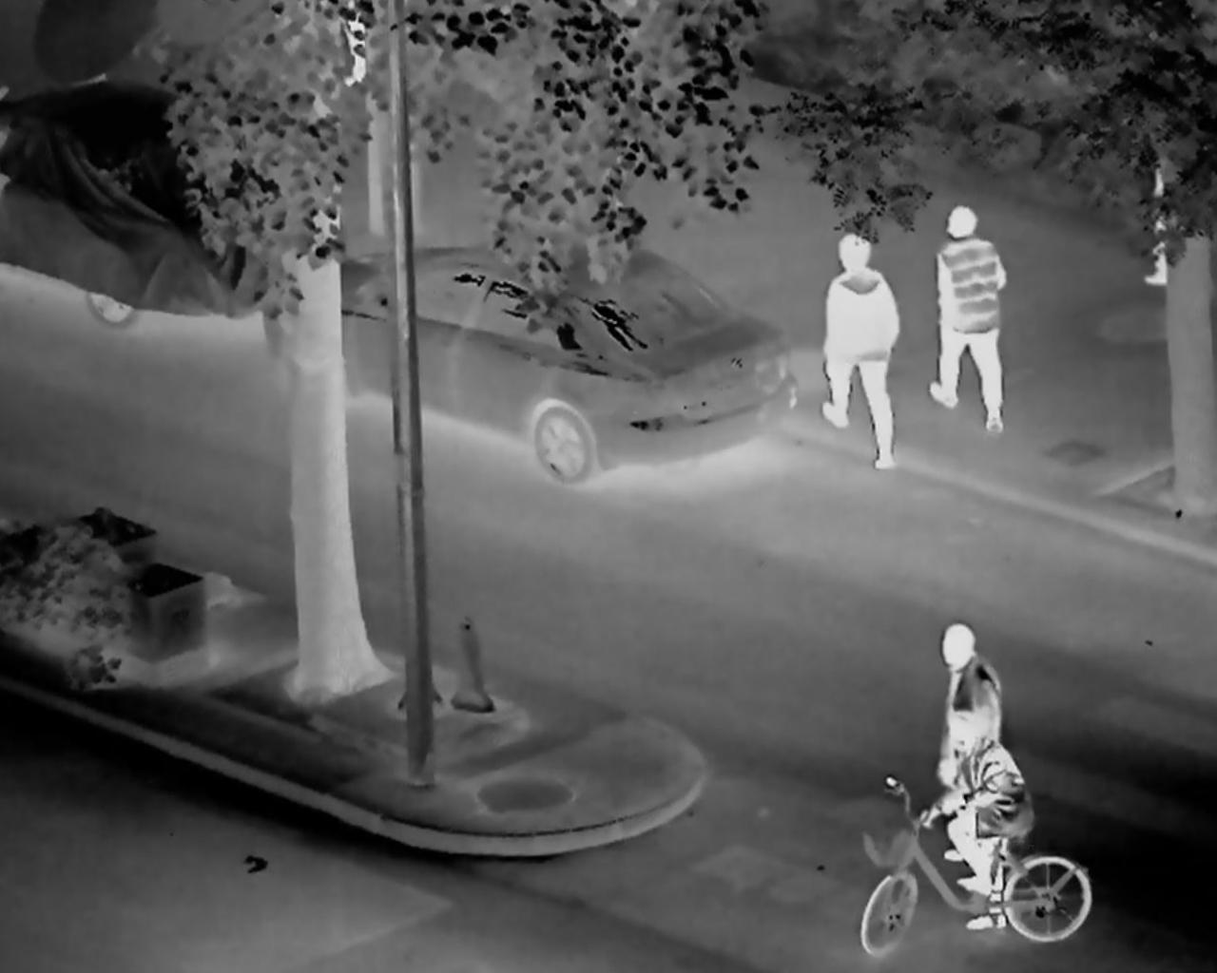person: (821, 235, 901, 475), (925, 203, 1006, 439), (950, 715, 1031, 929), (940, 621, 1000, 811)
